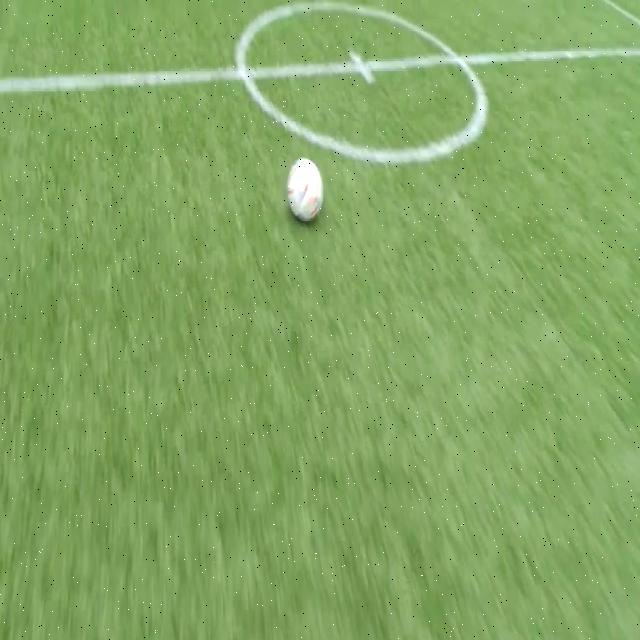ball: (287, 158, 323, 222)
